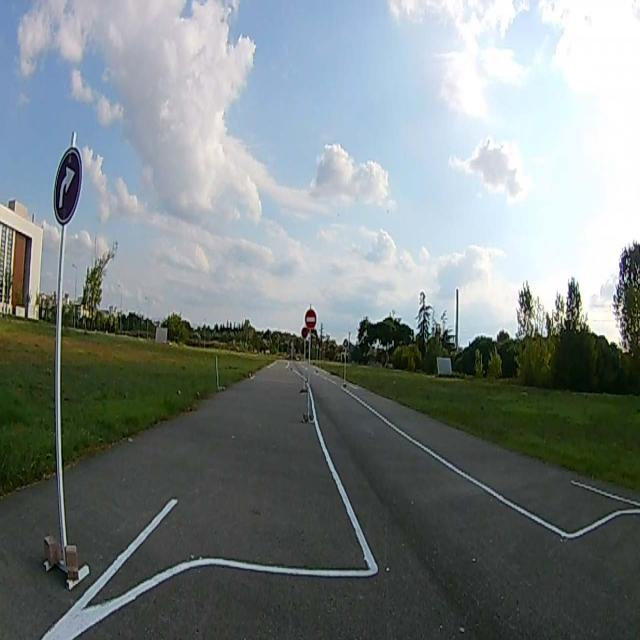girisyok: (305, 308, 317, 330)
sag: (54, 149, 80, 224)
